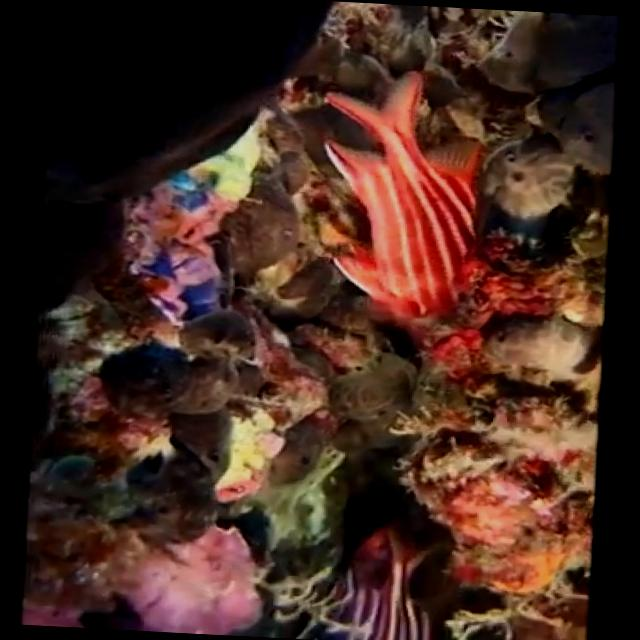Asker Baligi: (312, 62, 494, 326)
